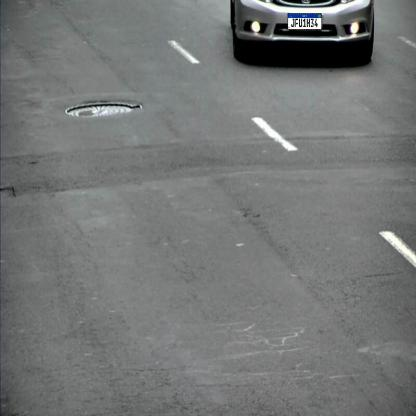PlacaM: (287, 13, 322, 30)
